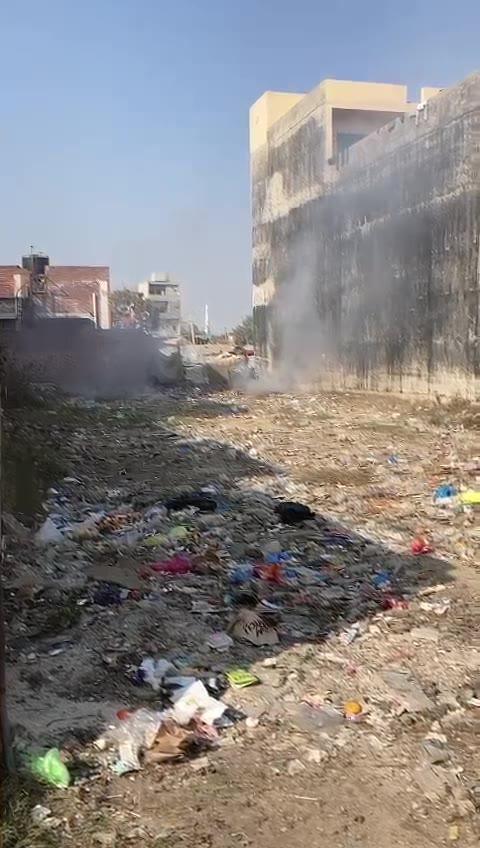garbage: (11, 474, 455, 780)
